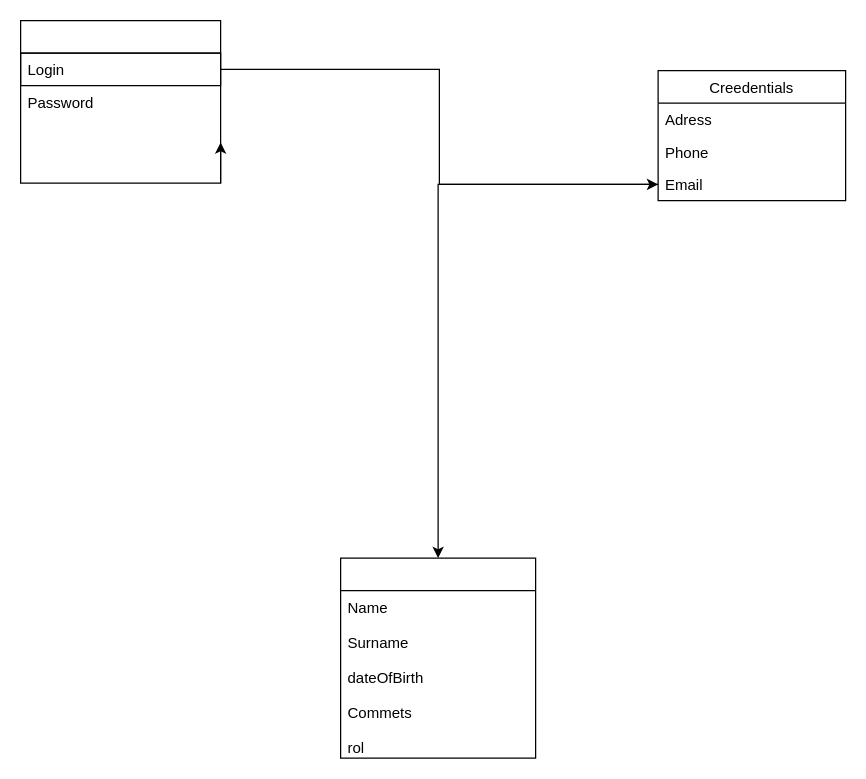
Image size: 866x779. Some labels were removed from this diagram. Each missing label, with the box of its shape:
Profile: (339, 557, 536, 758)
User: (19, 19, 221, 183)
